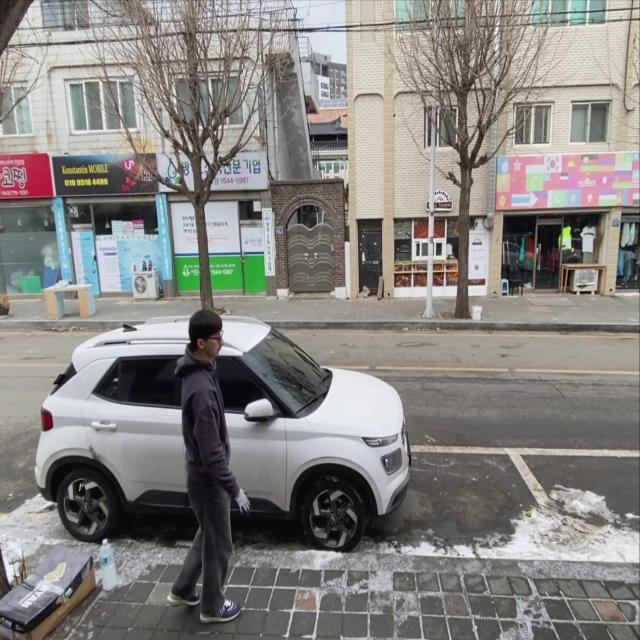gloved_hand: (237, 484, 250, 518)
